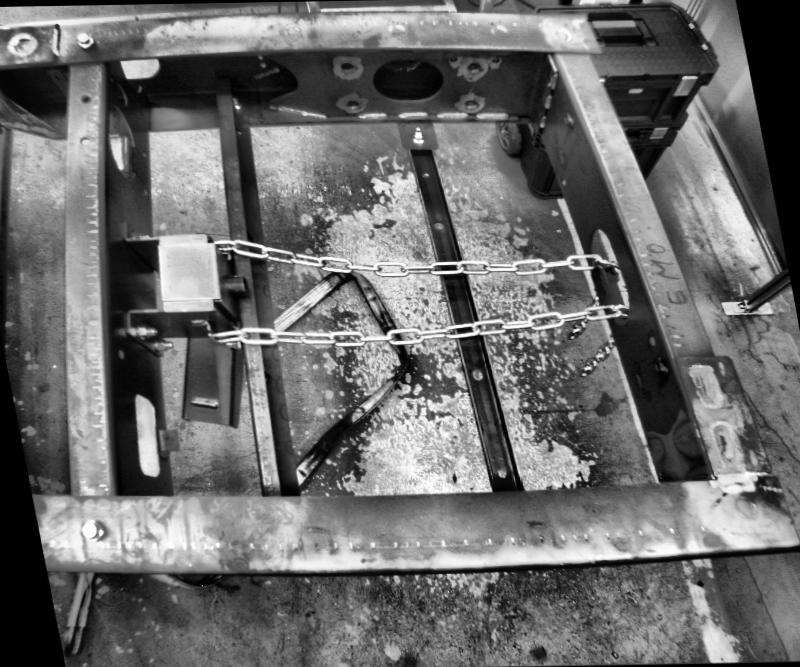bolt: (74, 516, 110, 539), (72, 29, 94, 49), (149, 336, 173, 352), (127, 324, 158, 334), (560, 111, 574, 130), (125, 228, 149, 238), (408, 124, 421, 141), (230, 96, 240, 108)
bracket: (588, 260, 612, 309), (155, 426, 179, 456)
hole: (364, 57, 449, 99), (128, 391, 162, 480), (103, 107, 138, 179), (116, 57, 170, 79), (334, 58, 356, 73), (112, 345, 128, 359), (463, 58, 480, 71), (469, 366, 484, 380), (76, 134, 90, 146), (342, 98, 358, 108), (460, 98, 476, 108), (646, 334, 657, 346), (431, 219, 444, 229), (77, 93, 90, 101), (493, 464, 504, 473), (163, 433, 171, 443), (420, 170, 428, 177)
welding: (534, 114, 548, 128), (546, 73, 556, 85), (540, 93, 550, 105)
